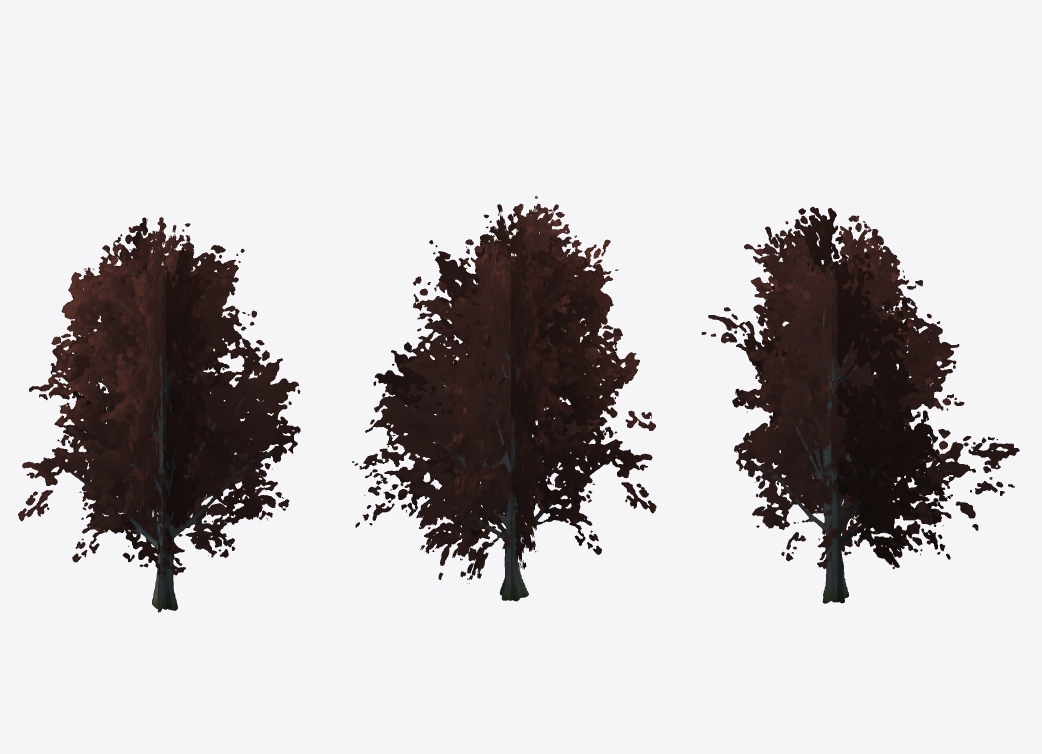
File: Sce_bf_tree06.fbx
The picture shows the model from 3 angles, left to right: view 1: azimuth 30°, elevation 25°; view 2: azimuth 150°, elevation 25°; view 3: azimuth 270°, elevation 25°; orthographic projection.
Parts seen in each view (by area): view 1: tree06; view 2: tree06; view 3: tree06.
Boxes of the visible parts, x1,y1,x2,y2 form: tree06: (18, 216, 300, 612); tree06: (352, 196, 656, 601); tree06: (701, 206, 1019, 603).
Size of the model in its own units: 18.07 by 34.68 by 18.21.
